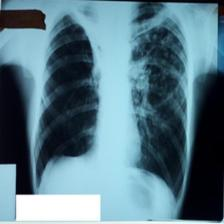tuberculosis: (28, 3, 189, 198)
